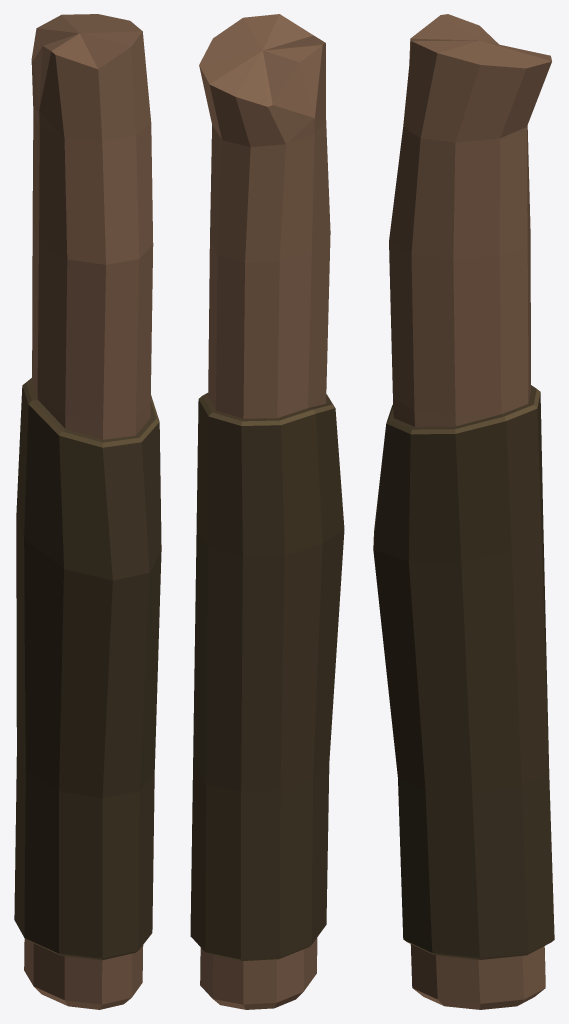
Rendered from Pickaxe1_Destroyed_1.fbx.
3 renders of one model, left to right at view 1: azimuth 30°, elevation 25°; view 2: azimuth 150°, elevation 25°; view 3: azimuth 270°, elevation 25°, orthographic.
Visible parts, largest first — view 1: Pickaxe1_Destroyed_1; view 2: Pickaxe1_Destroyed_1; view 3: Pickaxe1_Destroyed_1.
Boxes of the visible parts, x1,y1,x2,y2 form: Pickaxe1_Destroyed_1: (14,14,161,1009); Pickaxe1_Destroyed_1: (190,14,344,1009); Pickaxe1_Destroyed_1: (373,14,554,1009).
Bounding box in the file's own units: 10.44 × 81.67 × 14.03.
